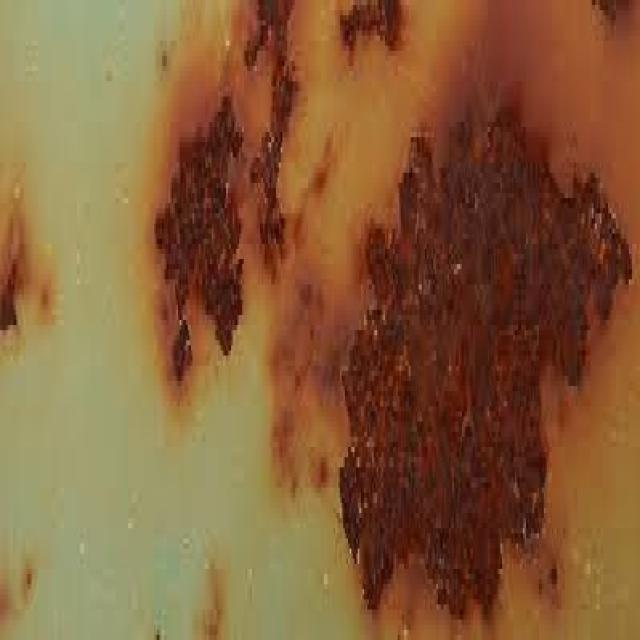corrosion: (336, 104, 638, 636), (148, 0, 303, 430)
